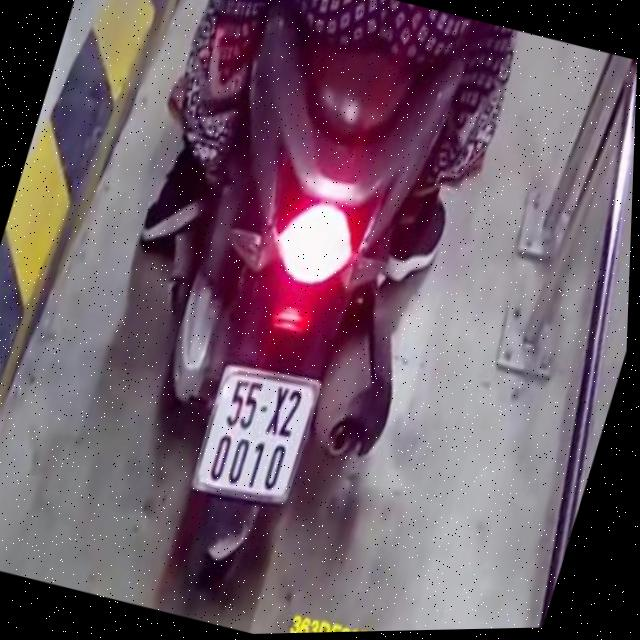motorcycle: (64, 0, 499, 638)
plate: (179, 349, 328, 518)
